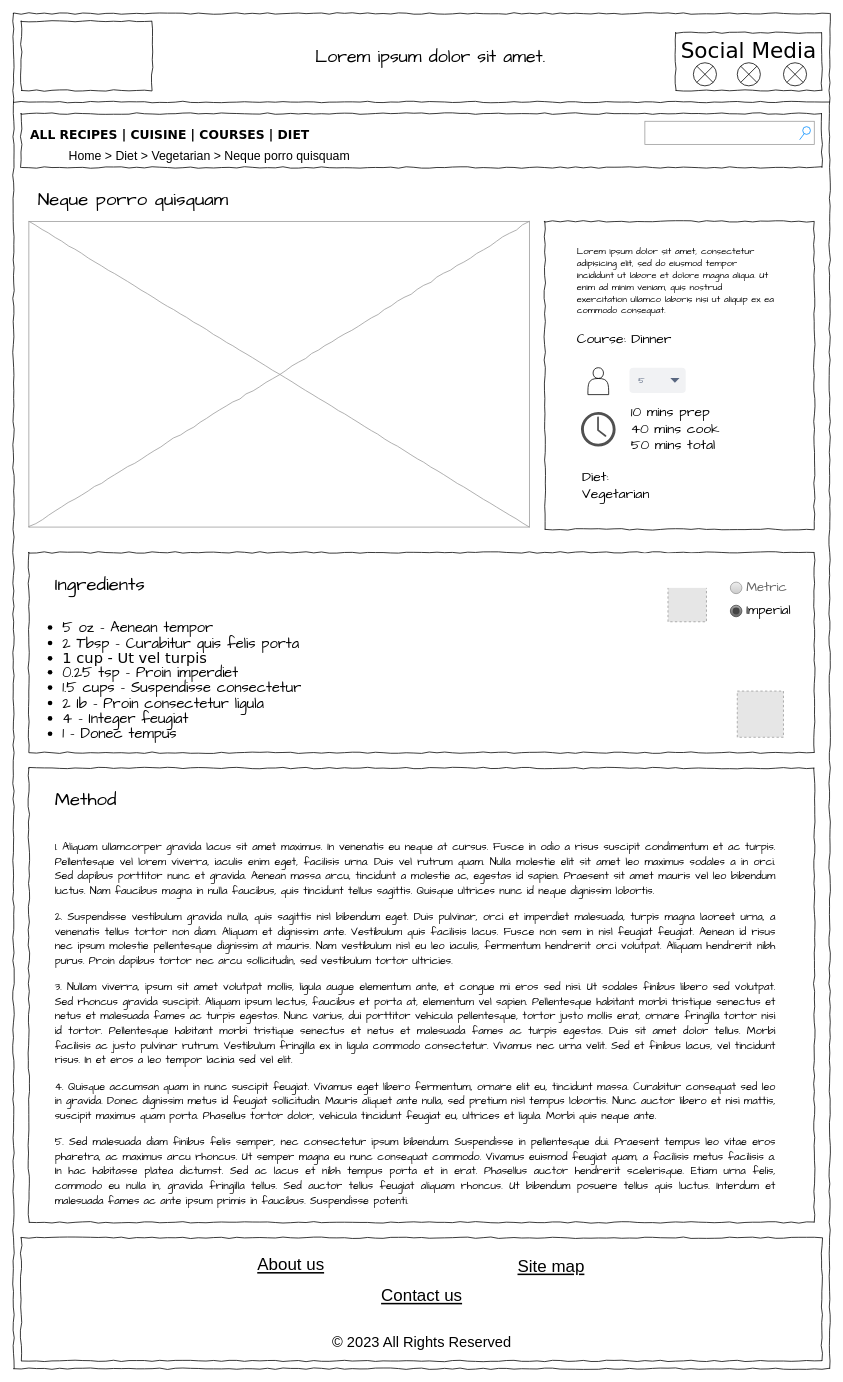
Image size: 843x1382. Some labels were removed from this diagram. Grey dashed boxes stand in for pictures. Each missing label, with the centre of its shape:
"LOGO" goes at [86,55].
"Search" goes at [729,132].
